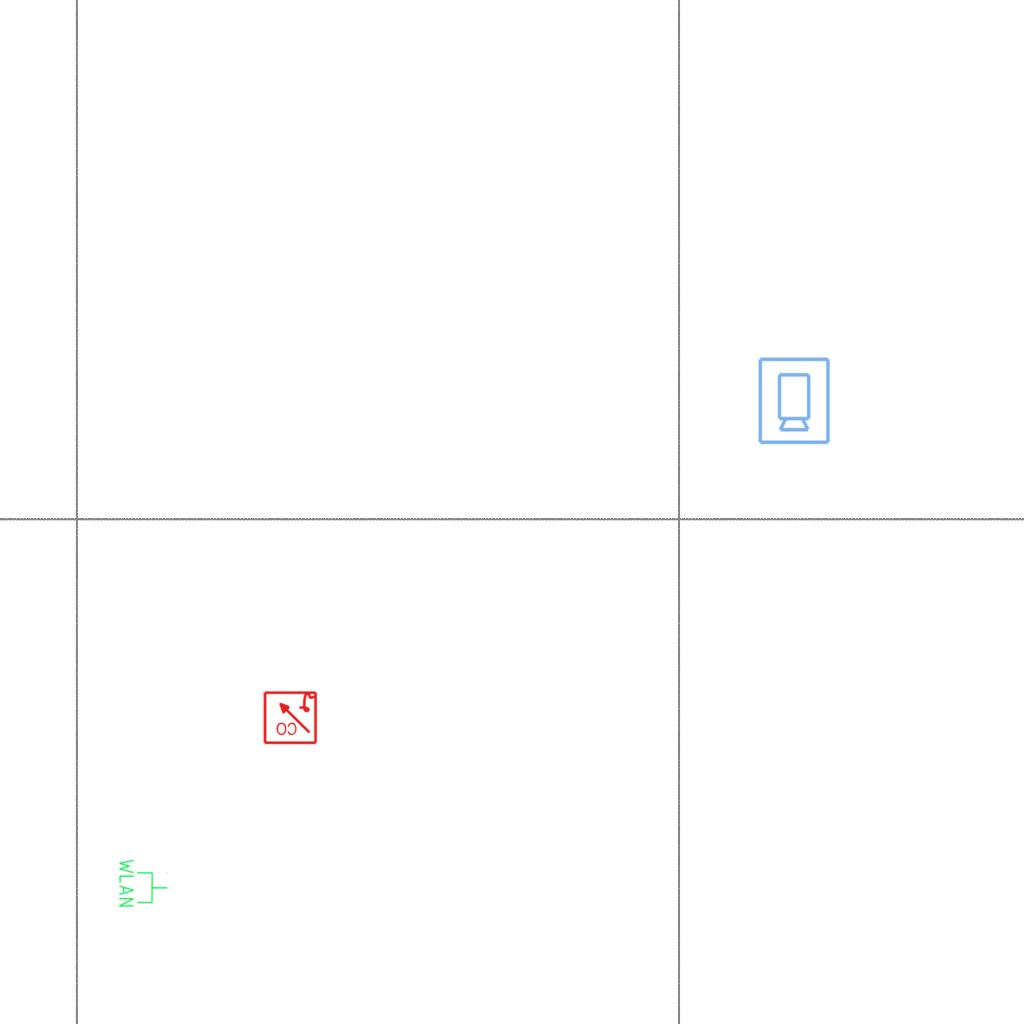KFO_Kamera_mit_Festobjektiv: (755, 355, 832, 446)
ROA_Rauchmelder_optisch_mit_Signalgeber_(Sockelsirene): (262, 689, 318, 745)
WLAN: (116, 856, 170, 910)
